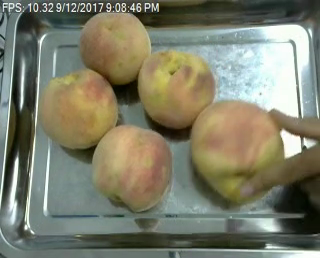Peach: (191, 100, 285, 199), (90, 123, 172, 211), (39, 67, 118, 149), (137, 49, 217, 128), (79, 7, 151, 84)
